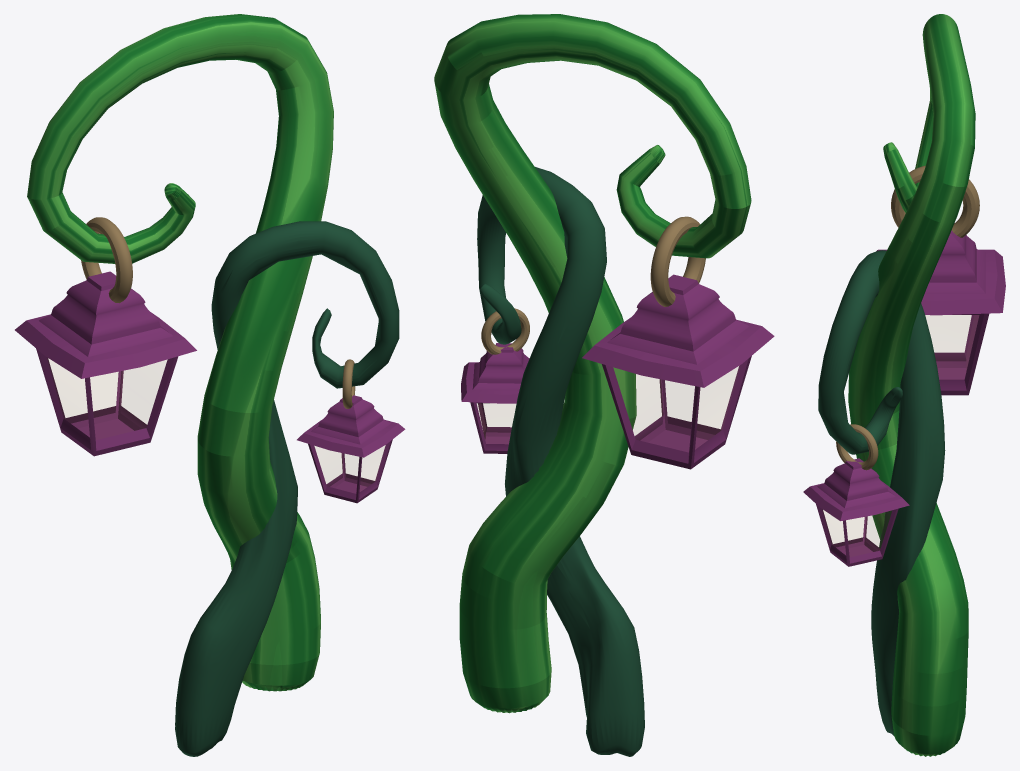
The model's file is LampPostV2 (1).fbx.
3 views of the same model, side by side, from view 1: azimuth 30°, elevation 25°; view 2: azimuth 150°, elevation 25°; view 3: azimuth 270°, elevation 25° (orthographic). The views are drawn at different scales.
Parts seen in each view (by area): view 1: Cylinder.002, Cylinder.001, Cube, Cube.001, Torus.001; view 2: Cylinder.002, Cylinder.001, Cube, Cube.001, Torus.001; view 3: Cylinder.002, Cylinder.001, Cube, Cube.001, Torus.001.
Part boxes in pixels (box(x1,y1,x2,y2)): Cylinder.002: box(27, 14, 333, 691); Cylinder.001: box(175, 221, 399, 756); Cube: box(15, 271, 196, 456); Cube.001: box(297, 395, 405, 503); Torus.001: box(81, 217, 355, 408); Cylinder.002: box(434, 14, 751, 713); Cylinder.001: box(477, 167, 644, 756); Cube: box(582, 274, 774, 469); Cube.001: box(461, 343, 529, 453); Torus.001: box(481, 216, 705, 354); Cylinder.002: box(848, 14, 975, 756); Cylinder.001: box(818, 250, 945, 735); Cube: box(876, 223, 1005, 395); Cube.001: box(803, 458, 909, 566); Torus.001: box(836, 165, 979, 470).
Size of the model in its own units: 224 by 468 by 122.
